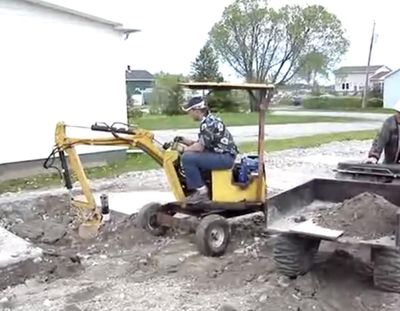excavator: (45, 79, 282, 265)
